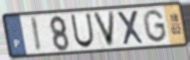8: (48, 14, 71, 52)
G: (141, 9, 168, 44)
I: (29, 15, 43, 54)
U: (69, 12, 96, 49)
V: (91, 10, 117, 48)
X: (115, 9, 146, 47)
